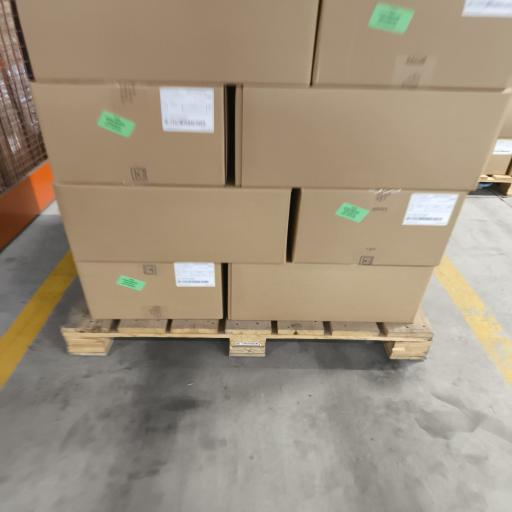pallet: (62, 302, 433, 359), (480, 175, 511, 196)
